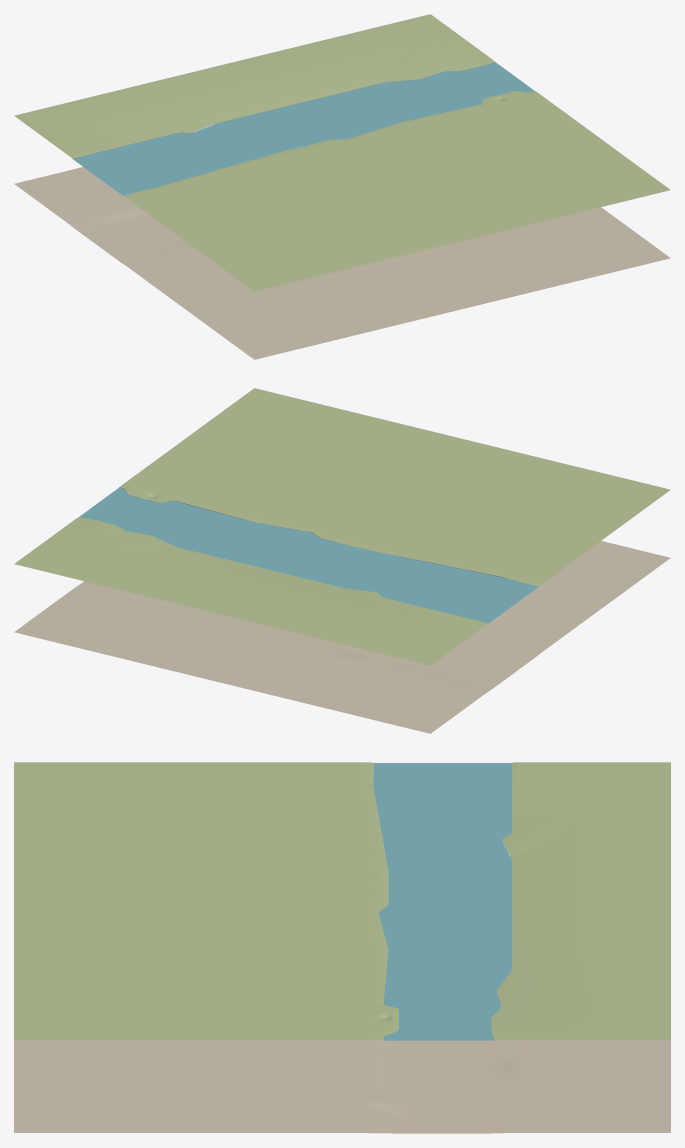
3 renders of one model, top to bottom at view 1: azimuth 30°, elevation 25°; view 2: azimuth 150°, elevation 25°; view 3: azimuth 270°, elevation 25°, orthographic. The views are drawn at different scales.
Parts seen in each view (by area): view 1: s_-6_6__grass, s_-6_6__soil, s_-6_6__water; view 2: s_-6_6__grass, s_-6_6__soil, s_-6_6__water; view 3: s_-6_6__grass, s_-6_6__soil, s_-6_6__water.
Part boxes in pixels (x1,y1,x2,y2): s_-6_6__grass: (14, 14, 670, 291); s_-6_6__soil: (14, 167, 670, 359); s_-6_6__water: (72, 62, 534, 195); s_-6_6__grass: (14, 388, 670, 665); s_-6_6__soil: (14, 521, 670, 733); s_-6_6__water: (79, 487, 538, 623); s_-6_6__grass: (14, 762, 670, 1040); s_-6_6__soil: (14, 856, 670, 1133); s_-6_6__water: (373, 763, 511, 1040).
Size of the model in its own units: 128 by 20.14 by 128.
